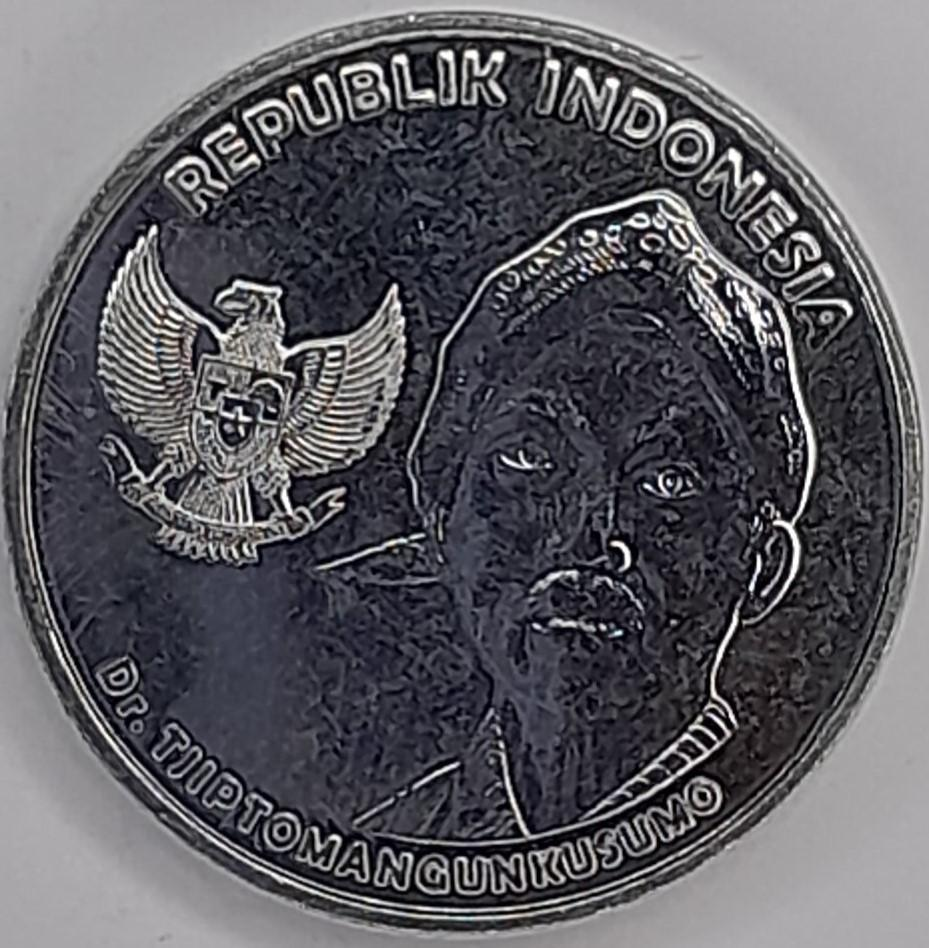coin_200_e2016: (0, 16, 929, 948)
